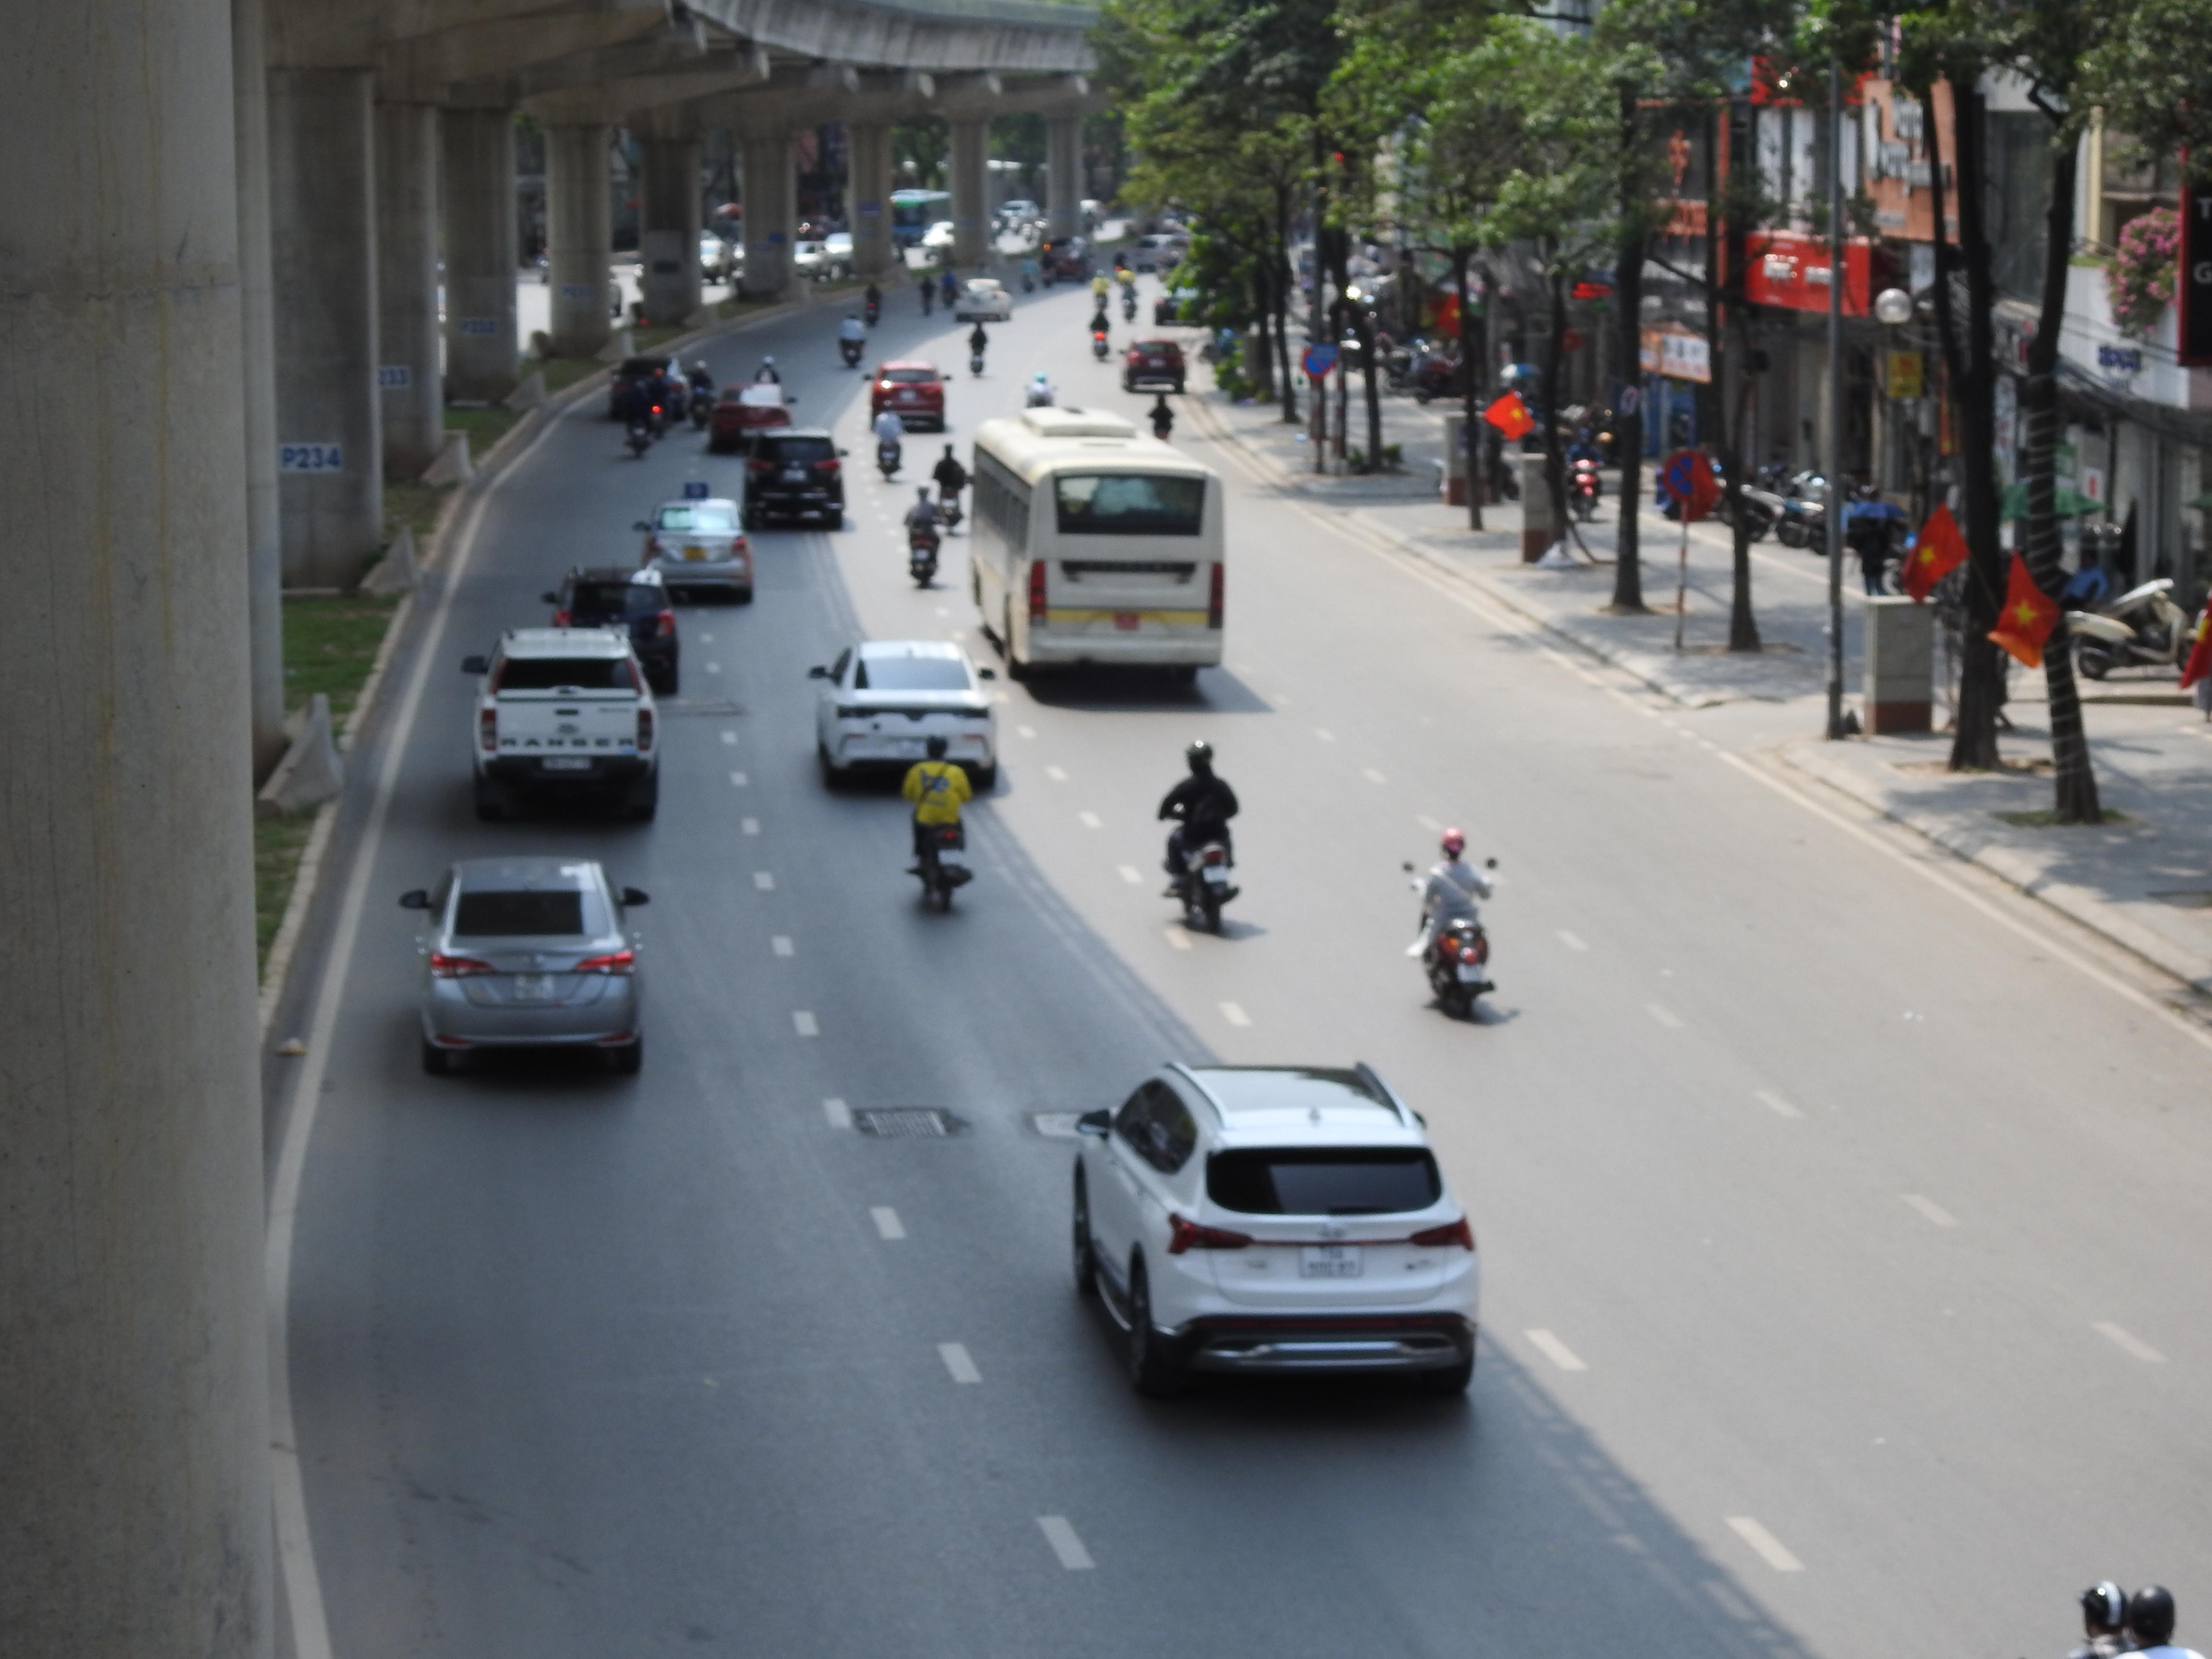BSV: (1299, 1243, 1364, 1279)
bus: (967, 408, 1230, 683)
car: (1068, 1060, 1482, 1403), (397, 856, 651, 1077), (462, 626, 664, 823), (806, 638, 1001, 791), (545, 565, 683, 694), (634, 497, 756, 603), (740, 427, 848, 532), (867, 361, 949, 430), (1122, 336, 1188, 394), (953, 277, 1014, 324)
motorbike: (2060, 549, 2196, 683), (1409, 826, 1498, 1021), (1160, 741, 1242, 936), (2017, 1581, 2212, 1659), (904, 735, 974, 915), (902, 484, 946, 589), (930, 443, 972, 538), (871, 399, 906, 483)
